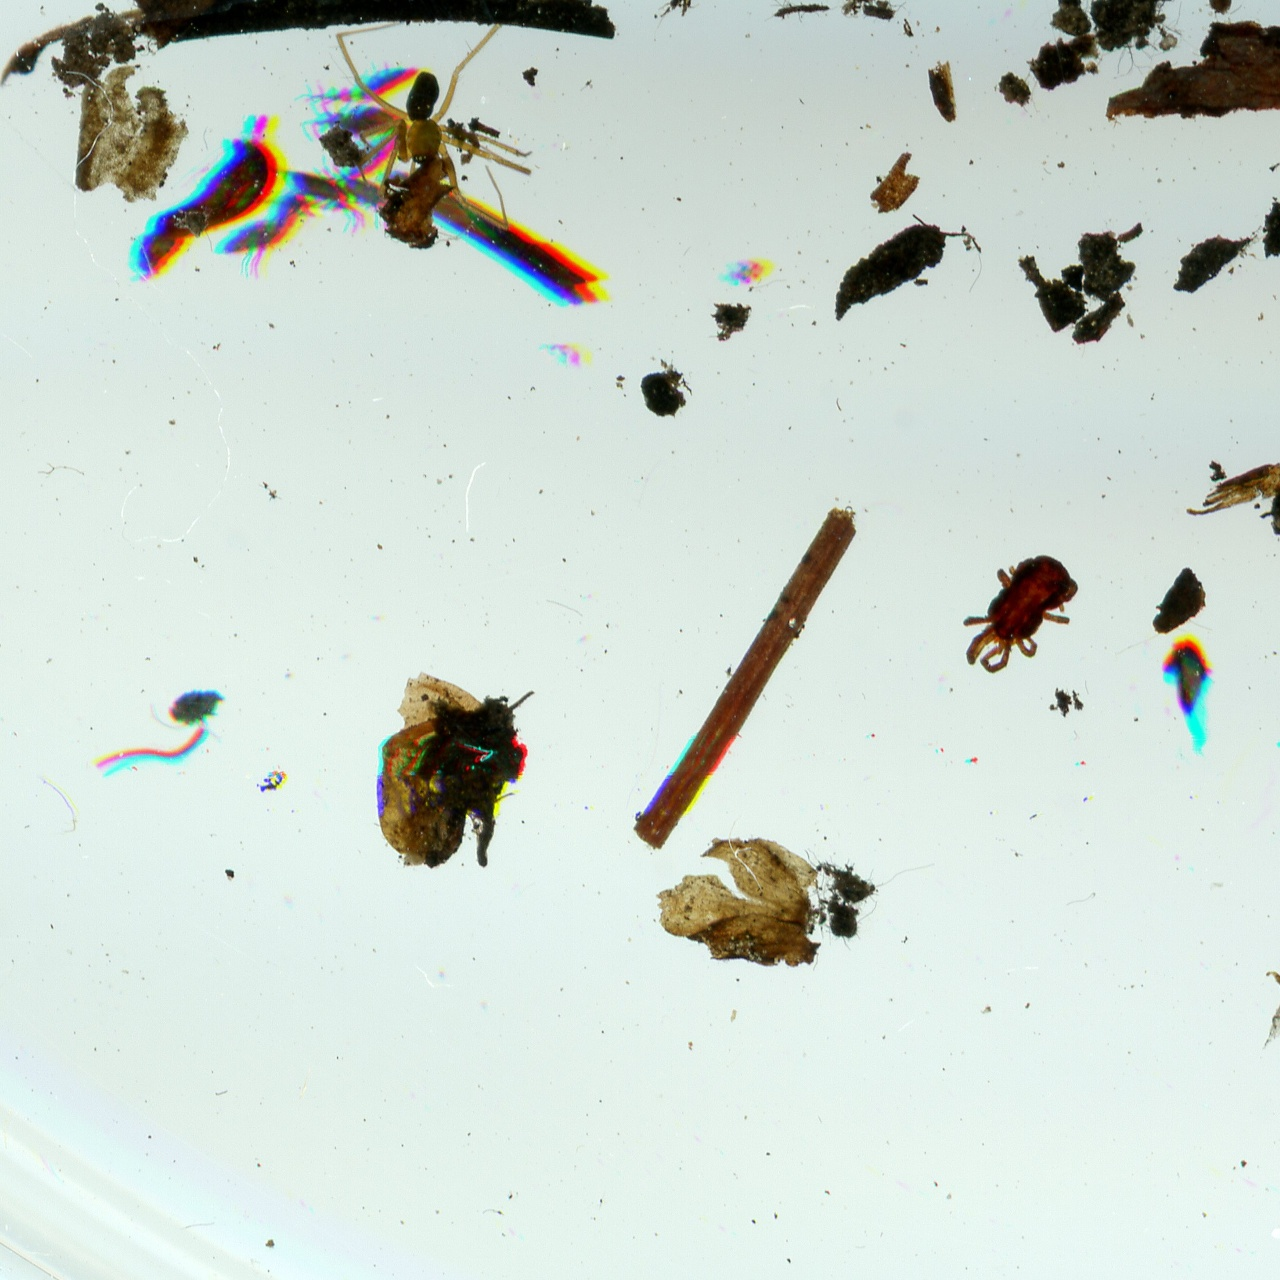arthropod: (329, 21, 533, 234), (939, 532, 1098, 701), (292, 45, 436, 130), (229, 175, 322, 293), (259, 157, 379, 241), (300, 83, 396, 149)
